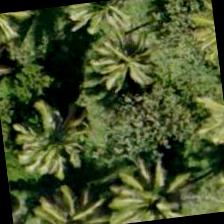Kelapa_Sawit: (72, 10, 172, 110), (0, 91, 99, 192), (93, 152, 192, 223), (15, 175, 112, 223)
